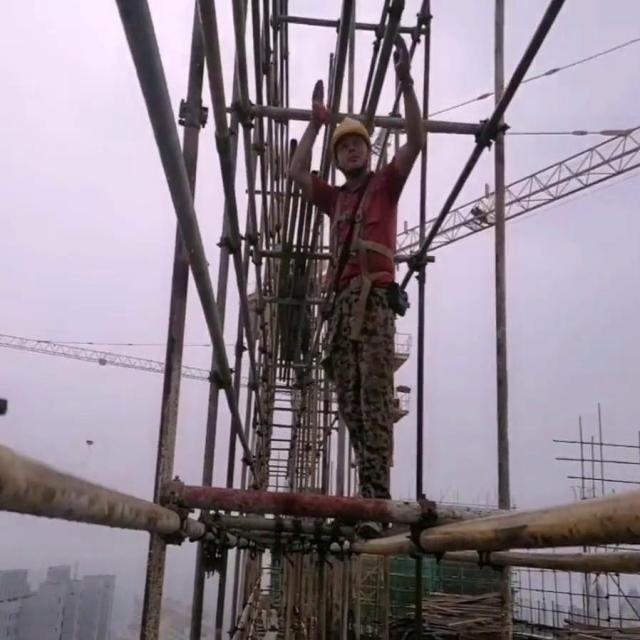Arnes_seguridad: (323, 172, 398, 295)
